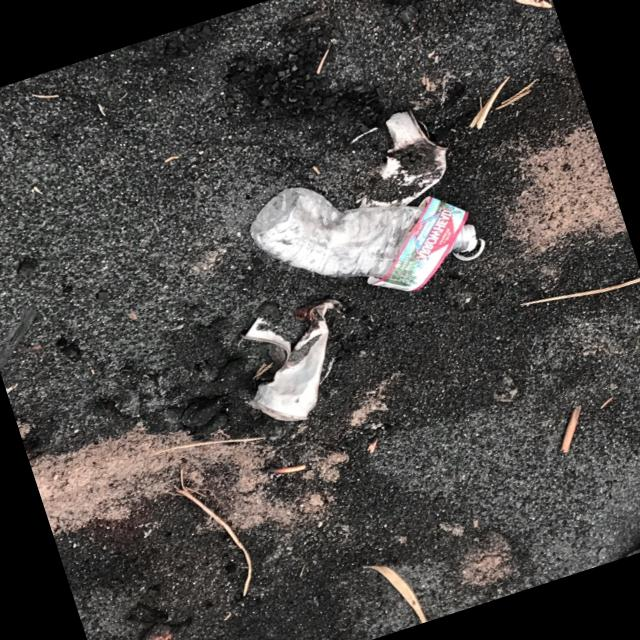less trash: (251, 187, 486, 291)
